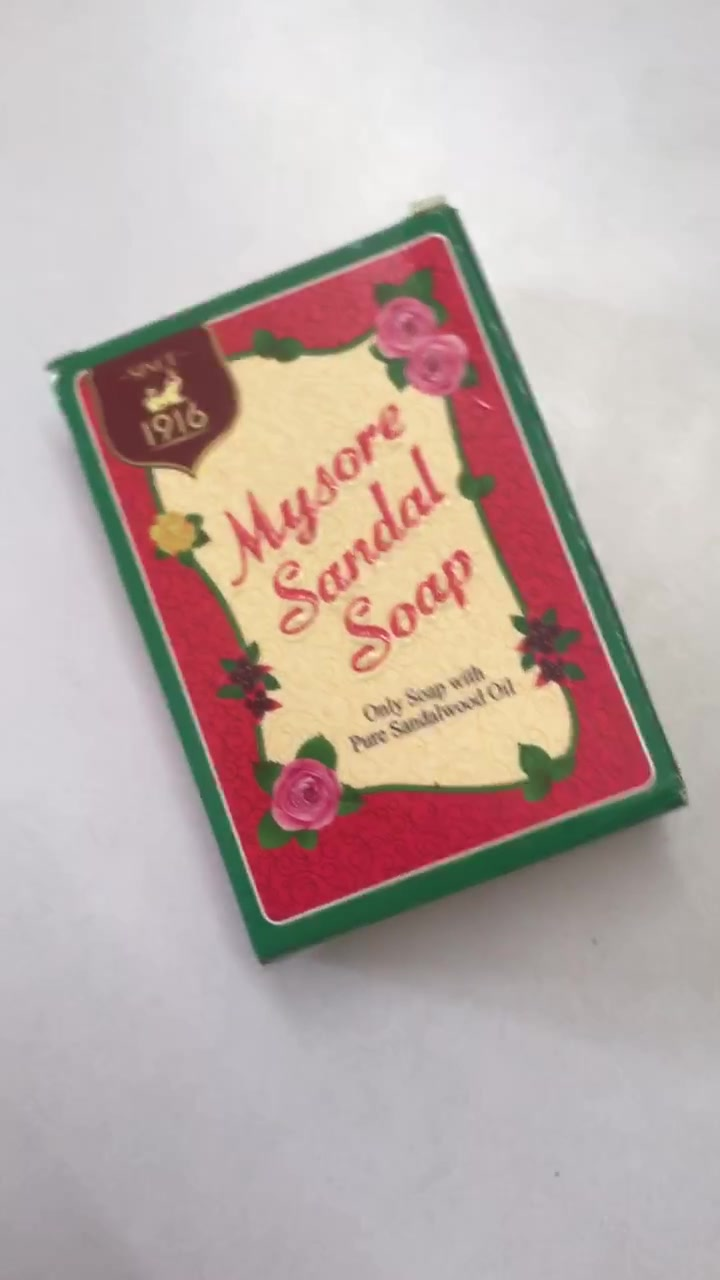mysore sandal soap: (41, 210, 688, 962)
